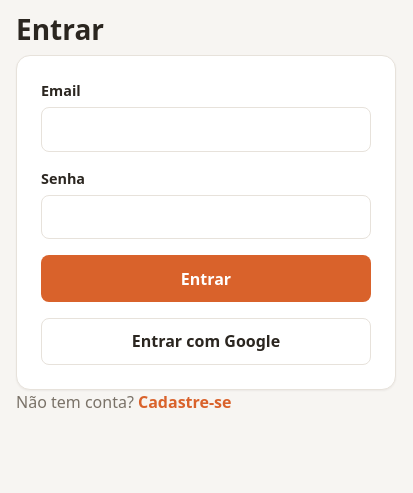
Test: LoginPage › shows an error message on invalid credentials
The width and height of the screenshot is (413, 493).
Type "ana@test.com" into the field labelled "Email" at (206, 129), box [41, 107, 371, 152]
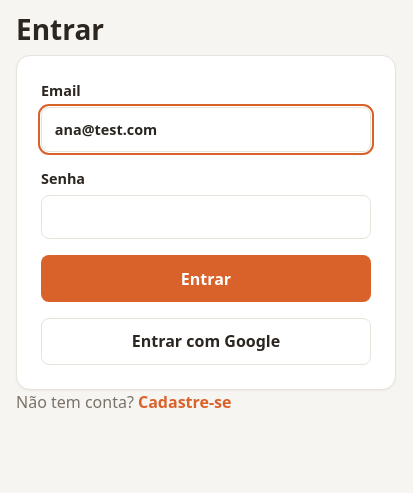
Type "wrong-password" into the password field labelled "Senha" at (206, 217), box [41, 195, 371, 239]
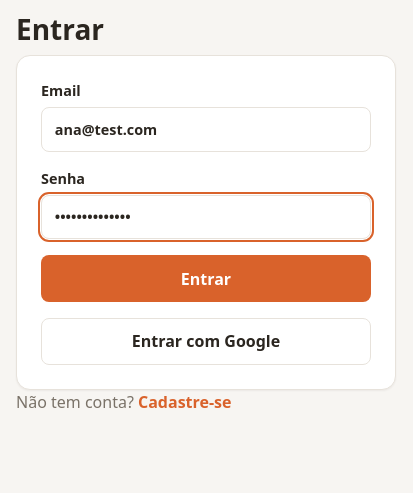
Click the button "Entrar" at (206, 278), box [41, 255, 371, 302]
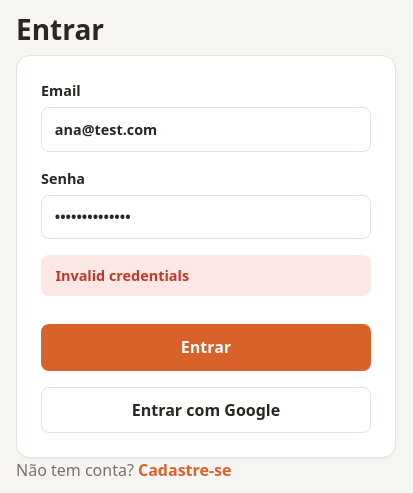
Check: the message "Invalid credentials" is shown, box [41, 255, 371, 296]
